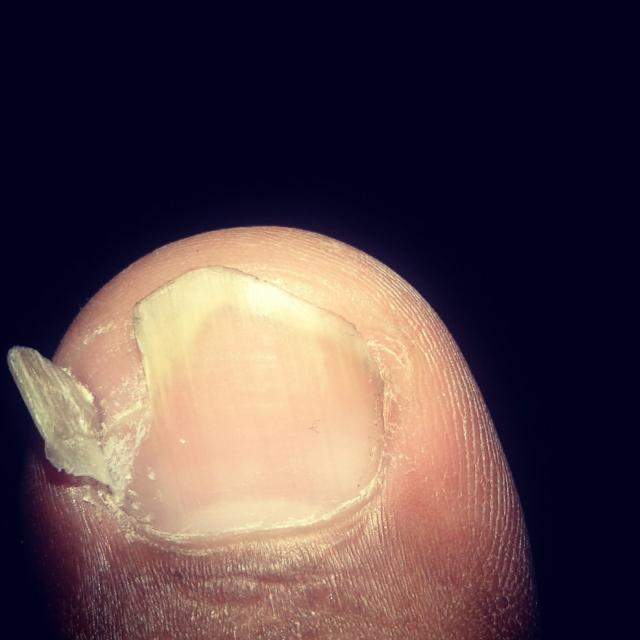diabetes: (123, 265, 384, 534)
